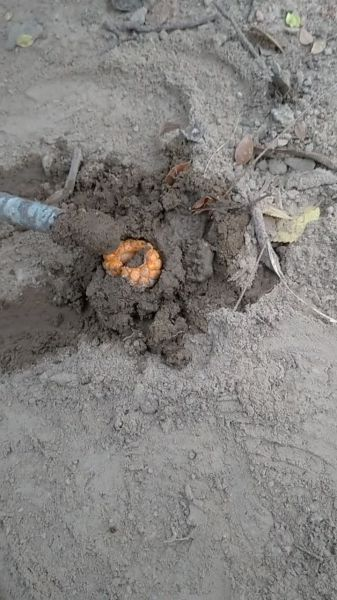eggs: (89, 228, 170, 299)
